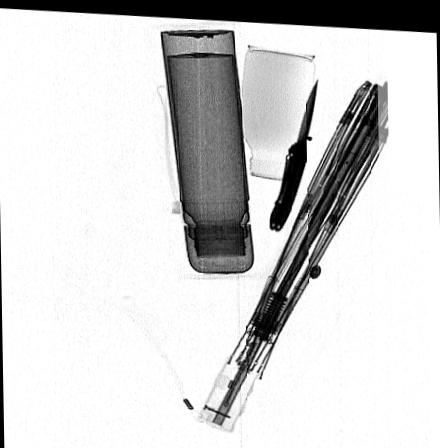Knife: (268, 74, 318, 228)
